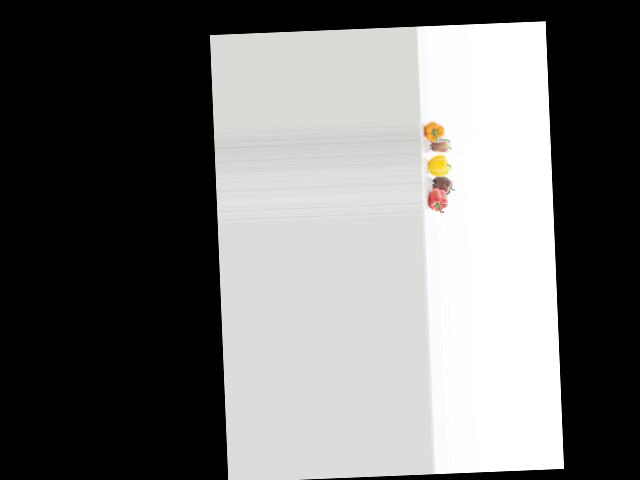bell_pepper: (421, 119, 451, 143)
